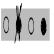correct: (40, 15, 47, 37)
not correct: (14, 2, 23, 43)
